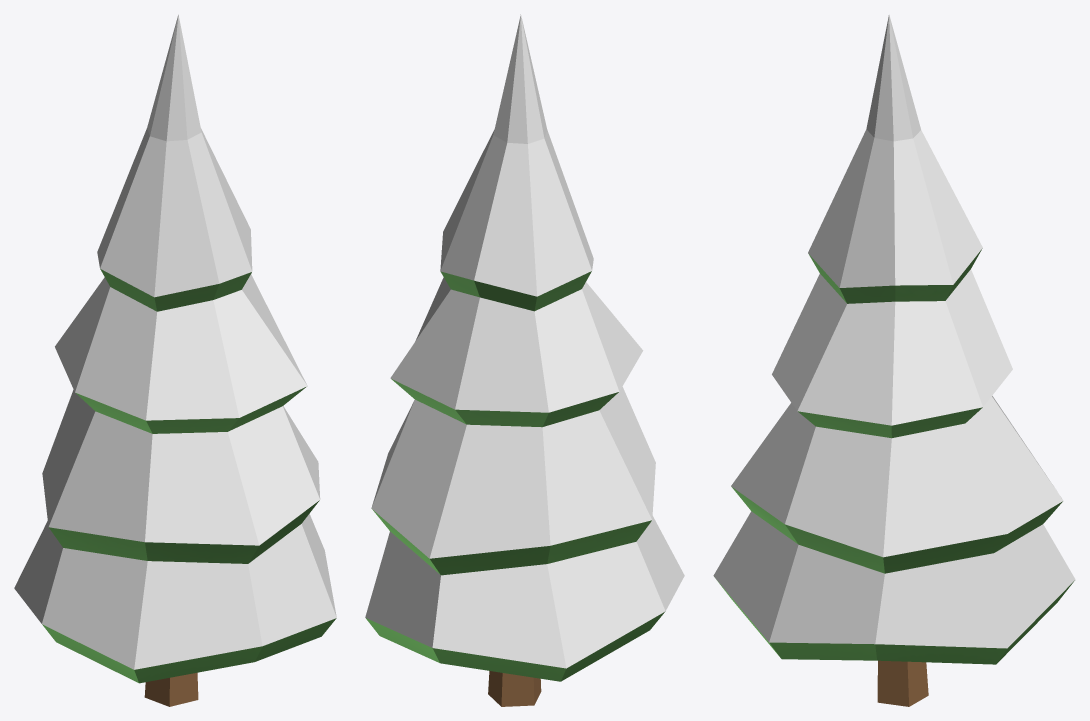
File: Fir_Tree_m_Snow_BT_01.fbx
3 views of the same model, side by side, from view 1: azimuth 30°, elevation 25°; view 2: azimuth 150°, elevation 25°; view 3: azimuth 270°, elevation 25° (orthographic).
Parts seen in each view (by area): view 1: Fir_Tree_m_Snow_BT_01; view 2: Fir_Tree_m_Snow_BT_01; view 3: Fir_Tree_m_Snow_BT_01.
Boxes of the visible parts, x1=… form: Fir_Tree_m_Snow_BT_01: x1=14, y1=14, x2=336, y2=706; Fir_Tree_m_Snow_BT_01: x1=365, y1=14, x2=684, y2=706; Fir_Tree_m_Snow_BT_01: x1=713, y1=14, x2=1075, y2=706.
Bounding box in the file's own units: 312 × 728 × 351.
